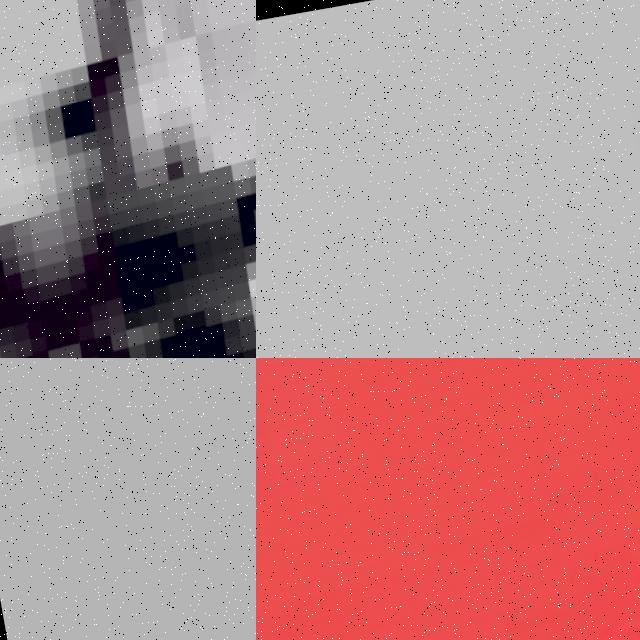0: (0, 0, 256, 358)
drone: (256, 358, 640, 640)
